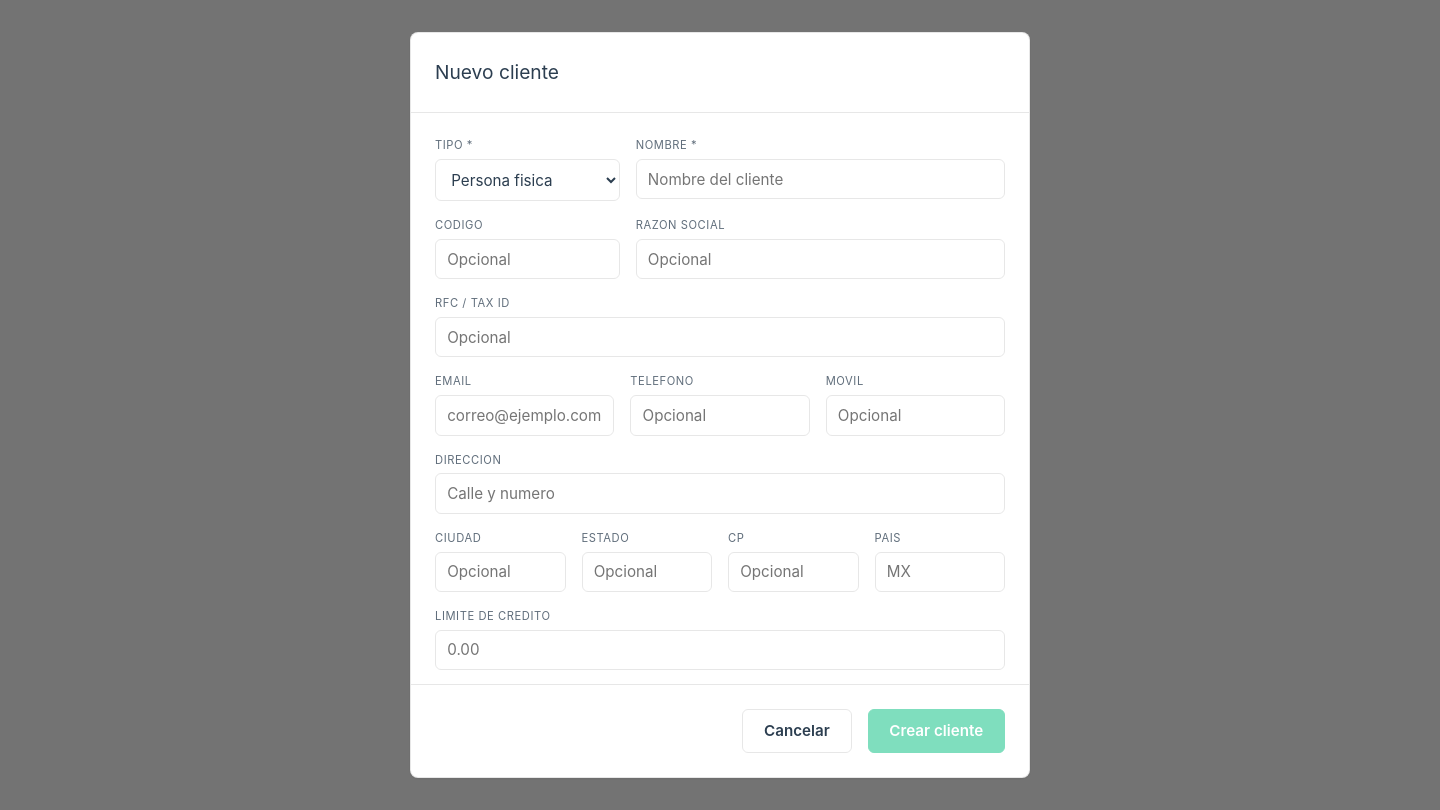
Test case: CustomerFormModal › muestra el error del store cuando el guardado falla
Type "Cliente" into the field with id "c-name".
click(820, 179); type("Cliente")  # box [636, 159, 1005, 199]
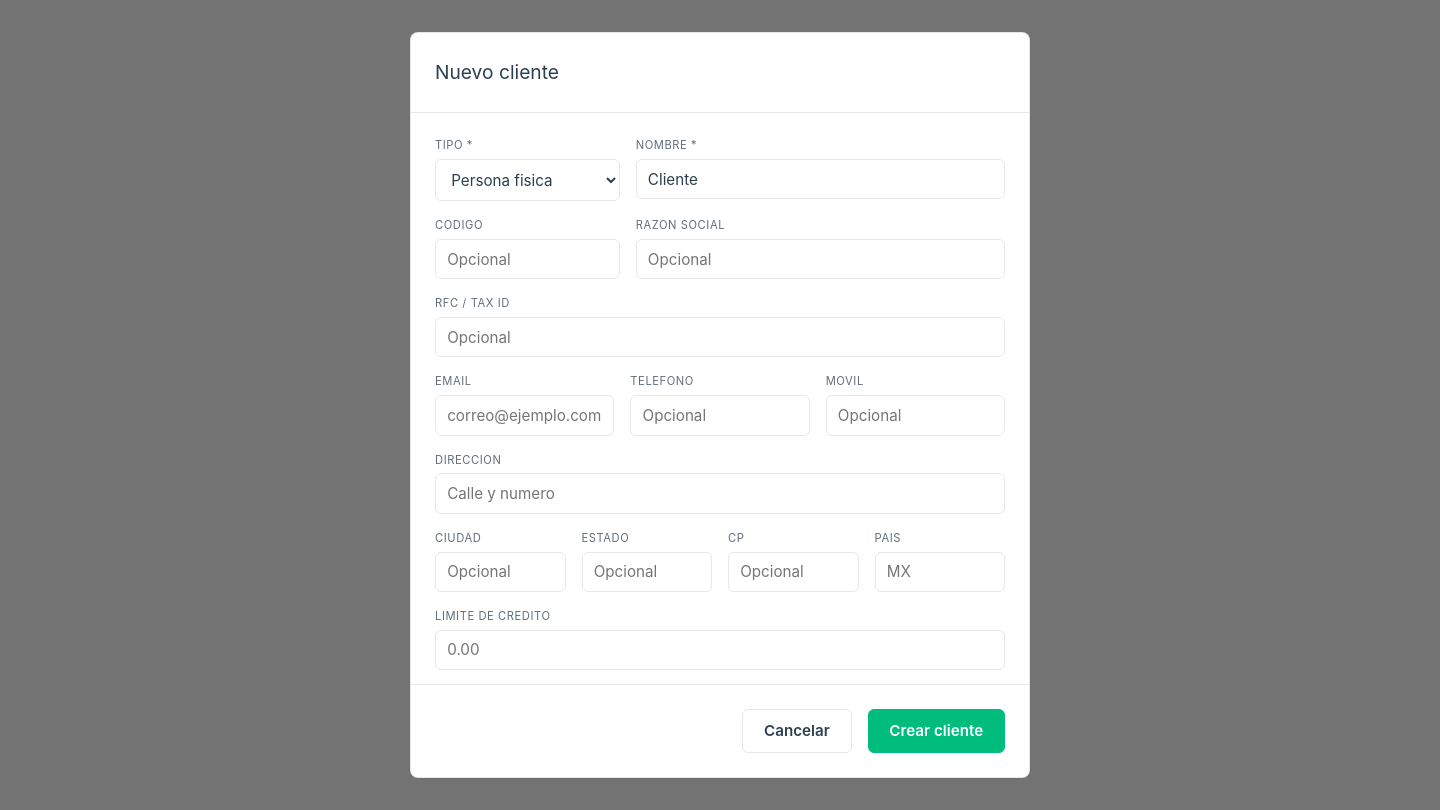
Click the button with class "cust-modal__btn--save".
click(936, 731)  # box [868, 709, 1005, 753]
(page scrolled)
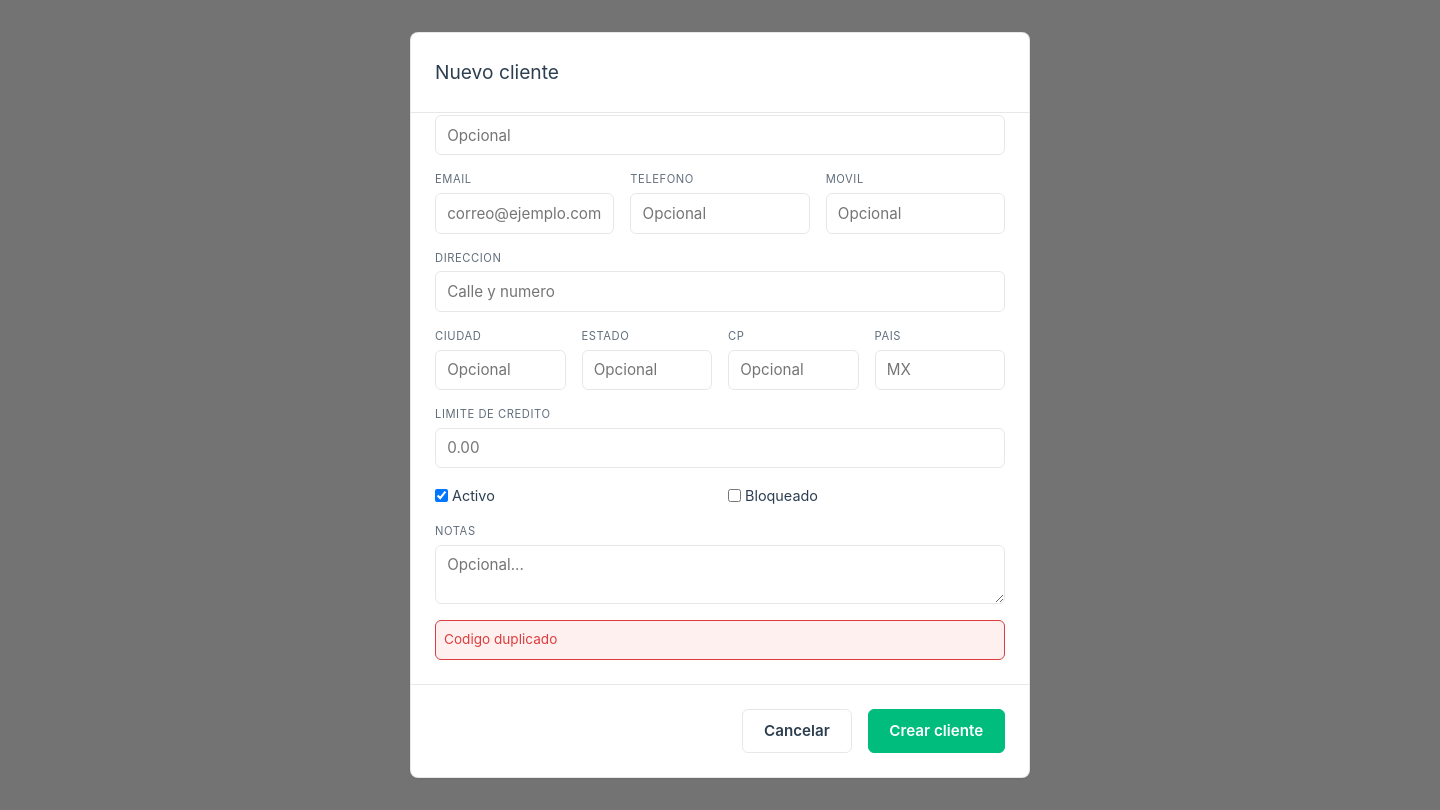
Expected: the text with class "cust-modal__error" reads "Codigo duplicado", [444, 631, 557, 647]
